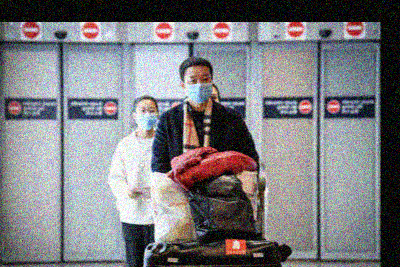with_mask: (184, 72, 213, 105), (135, 105, 157, 133)
